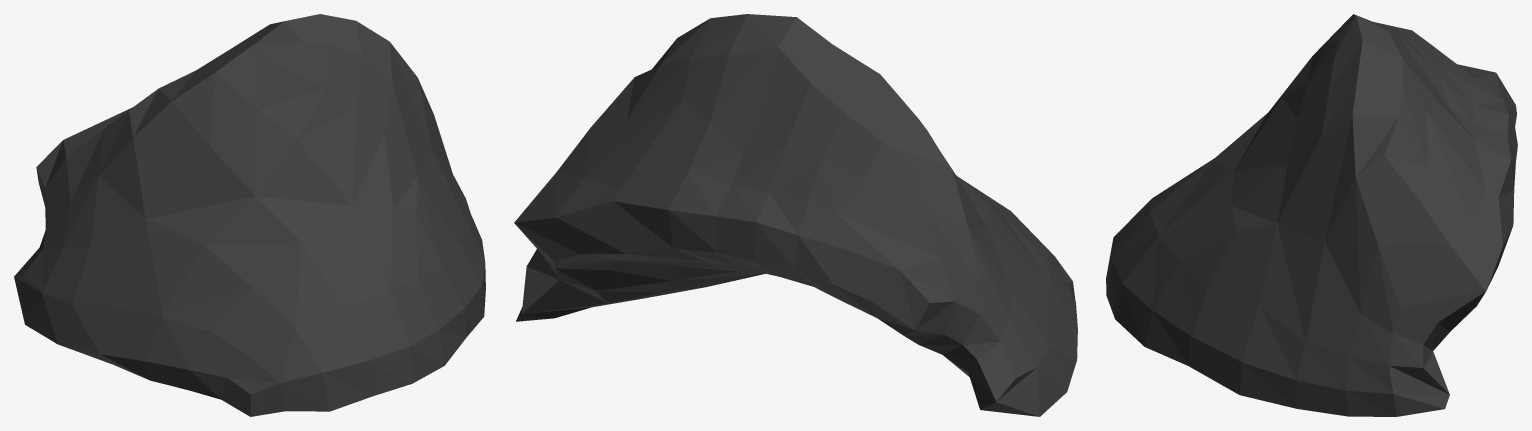
File: RHL_P3.glb
The picture shows the model from 3 angles, left to right: view 1: azimuth 30°, elevation 25°; view 2: azimuth 150°, elevation 25°; view 3: azimuth 270°, elevation 25°; orthographic projection. The views are drawn at different scales.
Parts seen in each view (by area): view 1: RHL_P3; view 2: RHL_P3; view 3: RHL_P3.
Boxes of the visible parts, <box> form: RHL_P3: <box>14,14,485,416</box>; RHL_P3: <box>514,14,1077,416</box>; RHL_P3: <box>1106,14,1517,416</box>.
Size of the model in its own units: 13.59 by 8.71 by 10.49.
Materials: 1 (1 with a texture image).
